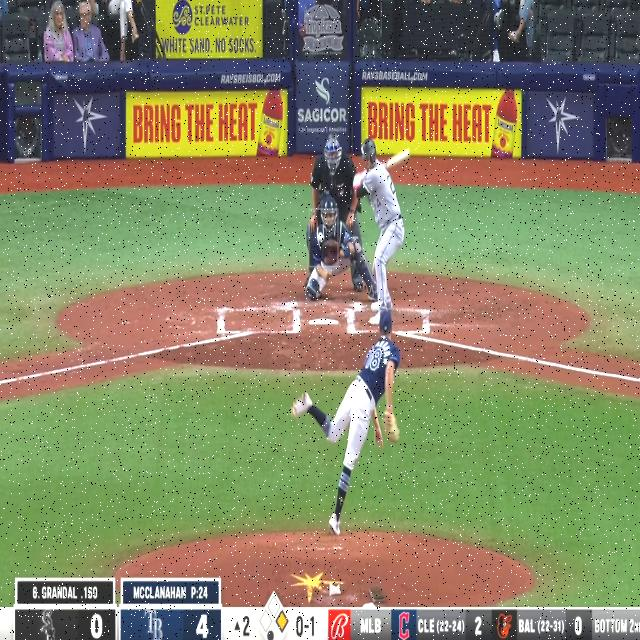baseball: (317, 232, 323, 242)
